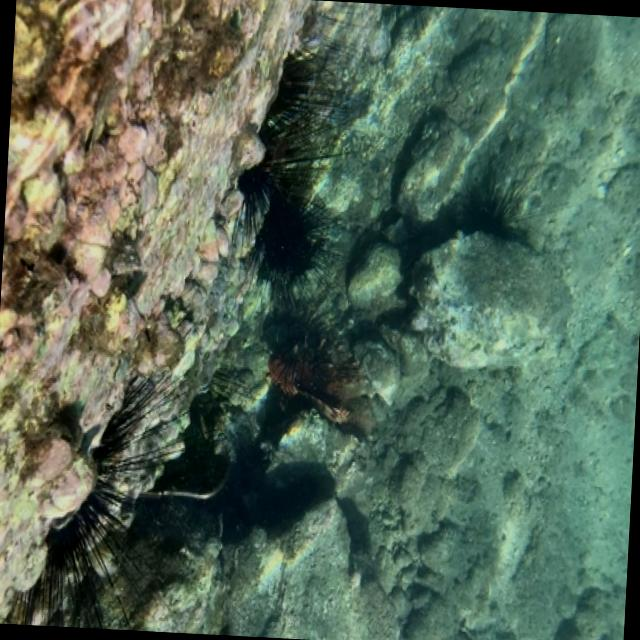Aslan Baligi: (250, 325, 377, 433)
